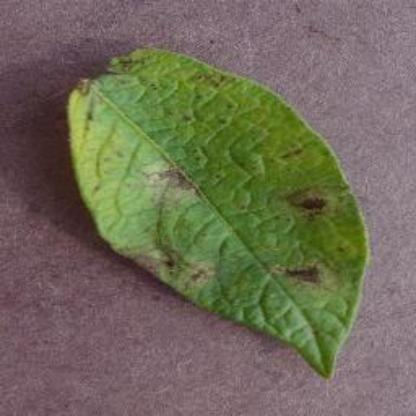Late-Blight: (30, 37, 392, 403)
